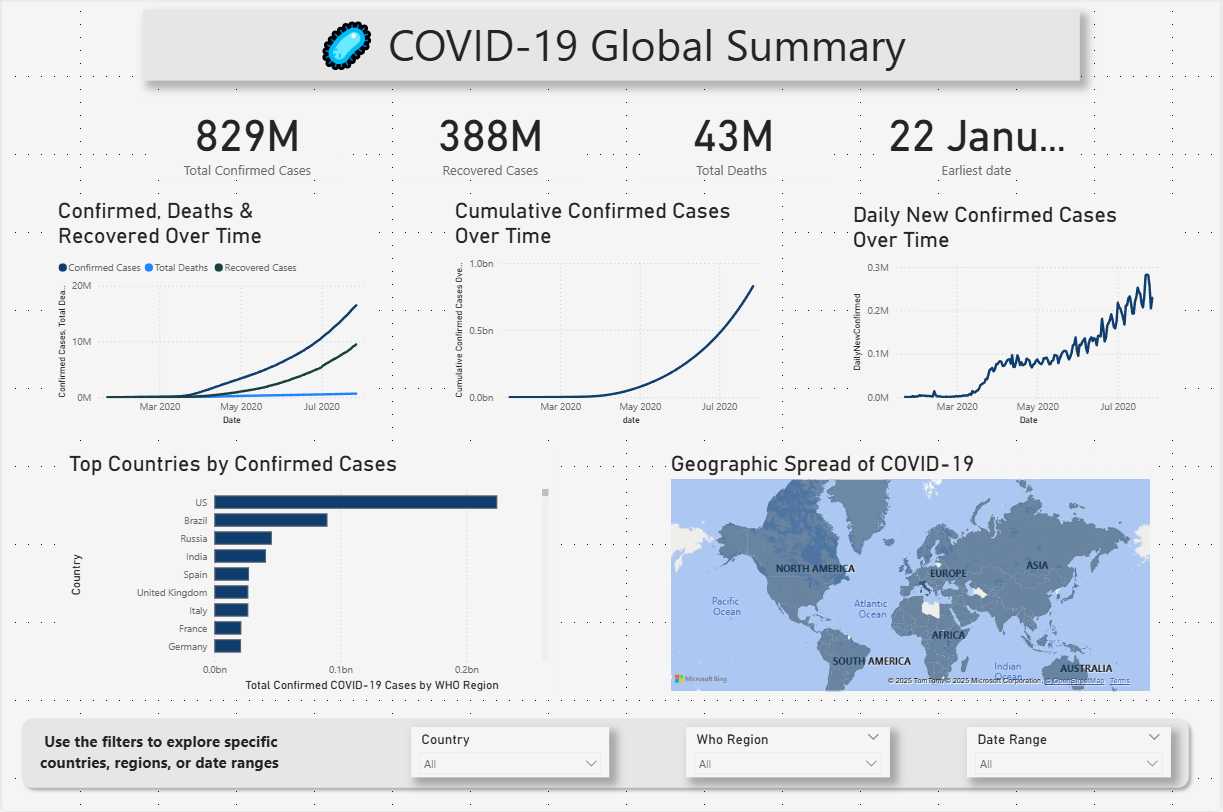

What the dashboard file says about the page in this screenshot:
{"tool":"powerbi","page":{"name":"Page 1","canvas":[1500,1000],"ordinal":0},"visuals":[{"type":"shape","box":[15,877.7,1455,103.5],"z":0},{"type":"card","fields":{"Values":["Sum(cleaned_covid_data.confirmed)"]},"box":[186.6,123.1,230,100],"z":1000},{"type":"card","fields":{"Values":["Sum(cleaned_covid_data.deaths)"]},"box":[785,123.1,230,100.2],"z":2000},{"type":"card","fields":{"Values":["Sum(cleaned_covid_data.recovered)"]},"box":[485.8,123.1,230,100],"z":3000},{"type":"card","fields":{"Values":["Min(cleaned_covid_data.date)"]},"box":[1084.1,123.1,230,100.2],"z":4000},{"type":"lineChart","title":"Confirmed, Deaths & Recovered Over Time","fields":{"Y":["Sum(cleaned_covid_data.confirmed)","Sum(cleaned_covid_data.deaths)","Sum(cleaned_covid_data.recovered)"],"Category":["cleaned_covid_data.date"]},"box":[63.6,245.6,399,284.3],"z":5000},{"type":"filledMap","title":"Geographic Spread of COVID-19","fields":{"Category":["cleaned_covid_data.country/region"]},"box":[817.9,557.3,599.7,300.5],"z":6000},{"type":"clusteredBarChart","title":"Top Countries by Confirmed Cases","fields":{"Y":["Sum(cleaned_covid_data.confirmed)"],"Category":["cleaned_covid_data.country/region"]},"box":[77.3,557.3,599.7,300.5],"z":7000},{"type":"lineChart","title":"Cumulative Confirmed Cases Over Time","fields":{"Y":["cleaned_covid_data.CumulativeConfirmed"],"Category":["cleaned_covid_data.date"]},"box":[552.3,245.6,399,284.3],"z":8000},{"type":"lineChart","title":"Daily New Confirmed Cases Over Time","fields":{"Y":["cleaned_covid_data.DailyNewConfirmed"],"Category":["cleaned_covid_data.date"]},"box":[1042.3,250.6,400.2,279.3],"z":9000},{"type":"slicer","fields":{"Values":["cleaned_covid_data.country/region"]},"box":[502.9,897.7,244.4,62.3],"z":10000},{"type":"slicer","fields":{"Values":["cleaned_covid_data.who_region"]},"box":[842.4,897.7,250.6,62.3],"z":11000},{"type":"slicer","fields":{"Values":["cleaned_covid_data.date"]},"box":[1188.2,897.7,250.6,62.3],"z":12000},{"type":"textbox","box":[173.5,14.8,1153.2,87.4],"z":13000},{"type":"textbox","box":[42.4,897.7,365.3,62.3],"z":14000}]}

Visuals, with their boxes in screenshot pixels (x1, y1, x2, y2), scaled from the page's 1500x1000 canvas onto the 1223x812 screenshot:
shape: region(12, 713, 1199, 797)
card - Sum(cleaned_covid_data.confirmed): region(152, 100, 340, 181)
card - Sum(cleaned_covid_data.deaths): region(640, 100, 828, 181)
card - Sum(cleaned_covid_data.recovered): region(396, 100, 584, 181)
card - Min(cleaned_covid_data.date): region(884, 100, 1071, 181)
"Confirmed, Deaths & Recovered Over Time" lineChart: region(52, 199, 377, 430)
"Geographic Spread of COVID-19" filledMap: region(667, 453, 1156, 697)
"Top Countries by Confirmed Cases" clusteredBarChart: region(63, 453, 552, 697)
"Cumulative Confirmed Cases Over Time" lineChart: region(450, 199, 776, 430)
"Daily New Confirmed Cases Over Time" lineChart: region(850, 203, 1176, 430)
slicer - cleaned_covid_data.country/region: region(410, 729, 609, 780)
slicer - cleaned_covid_data.who_region: region(687, 729, 891, 780)
slicer - cleaned_covid_data.date: region(969, 729, 1173, 780)
textbox: region(141, 12, 1082, 83)
textbox: region(35, 729, 332, 780)
